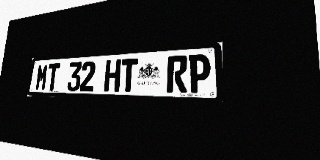2: (80, 61, 96, 91)
3: (67, 62, 82, 91)
H: (104, 59, 121, 92)
M: (35, 64, 49, 91)
P: (188, 54, 210, 93)
R: (166, 55, 188, 93)
T: (120, 58, 138, 92), (46, 63, 60, 91)
